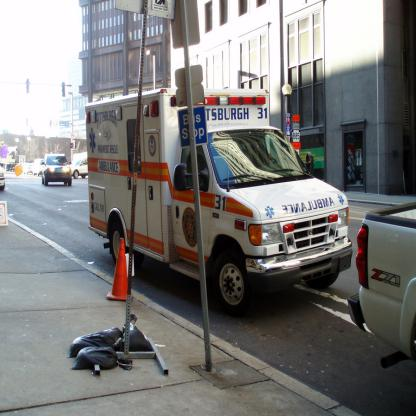Ambulance: (85, 88, 353, 317)
Car: (347, 204, 415, 368), (42, 154, 72, 186)
Truck: (85, 87, 354, 317)
